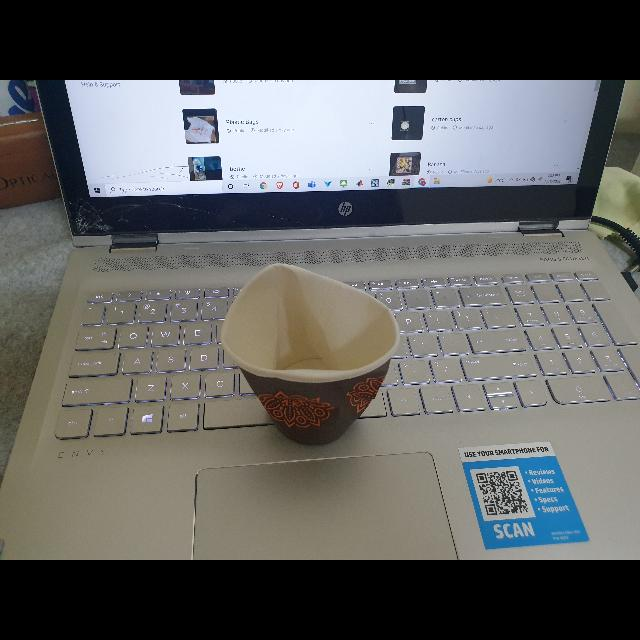trash: (215, 258, 402, 452)
